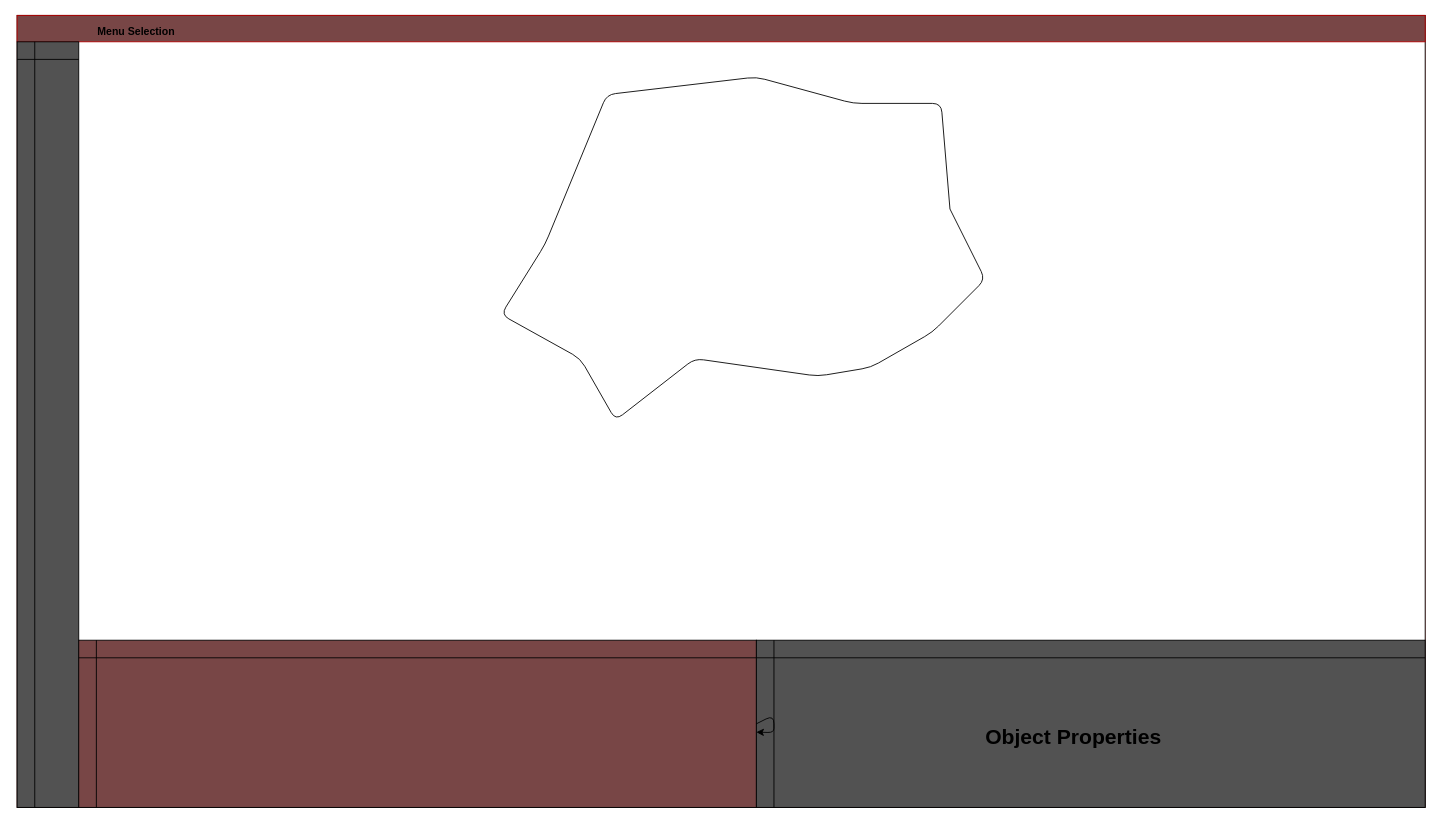
Image size: 1441x823. Some labels were removed from this diagram. Here are the shapes that lost their labels. From the top down, the centre of each, then its label:
point (47, 424): Tool bar
point (417, 723): Timeline
